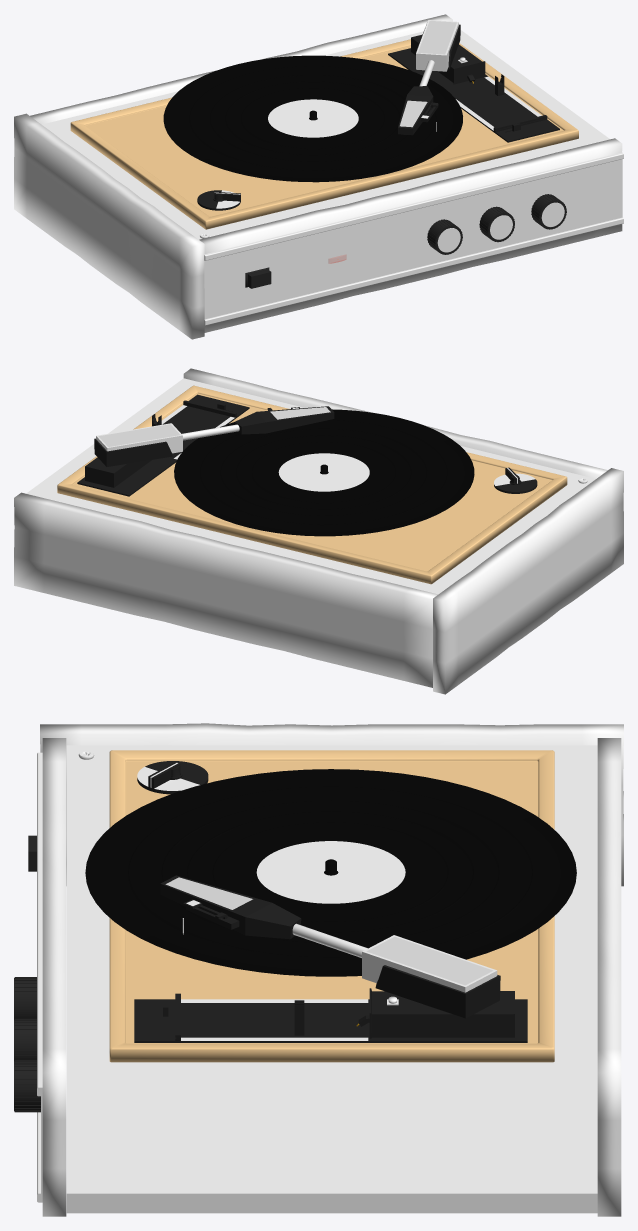
The model's file is record-player.glb.
The picture shows the model from 3 angles, top to bottom: view 1: azimuth 30°, elevation 25°; view 2: azimuth 150°, elevation 25°; view 3: azimuth 270°, elevation 25°; orthographic projection. The views are drawn at different scales.
Parts seen in each view (by area): view 1: vinyle, Cube, Plane.003, Plane.004, Plane.002, Plane.007, Cube.006, Plane.001, branche, Cube.002, Cube.004, button1 (+4 smaller); view 2: Plane.001, vinyle, Plane.003, Plane.004, Plane.007, Plane.002, Cube.006, Cube.002, branche, Cube.003, Cube.004, Cylinder.008; view 3: vinyle, Plane.005, Plane.004, Plane.007, Plane.003, Plane.001, Plane.002, Cube.006, Cube.004, Cube.002, branche, Cube.003 (+6 smaller).
Part boxes in pixels (x1,y1,x2,y2): vinyle: (163,55,462,182); Cube: (204,152,623,325); Plane.003: (14,113,204,339); Plane.004: (70,39,578,229); Plane.002: (199,138,622,332); Plane.007: (42,30,609,239); Cube.006: (388,48,559,142); Plane.001: (30,14,452,124); branche: (416,20,458,71); Cube.002: (398,86,438,135); Cube.004: (411,35,485,84); button1: (427,219,462,254); Plane.001: (14,492,438,687); vinyle: (174,409,474,536); Plane.003: (433,468,623,694); Plane.004: (57,385,567,584); Plane.007: (26,378,595,594); Plane.002: (183,368,607,478); Cube.006: (77,394,249,496); Cube.002: (234,406,334,434); branche: (96,423,182,453); Cube.003: (94,438,172,466); Cube.004: (85,457,151,487); Cylinder.008: (494,467,537,493); vinyle: (85,769,576,976); Plane.005: (66,1080,597,1213); Plane.004: (109,750,554,1062); Plane.007: (66,745,597,1080); Plane.003: (40,723,623,886); Plane.001: (597,738,621,1216); Plane.002: (42,738,66,1216); Cube.006: (134,993,527,1042); Cube.004: (358,988,514,1038); Cube.002: (160,875,301,939); branche: (362,935,497,992); Cube.003: (375,965,500,1018).
Size of the model in its own units: 0.5148 by 0.144 by 0.3847.
Materials: 23 (8 with a texture image).
